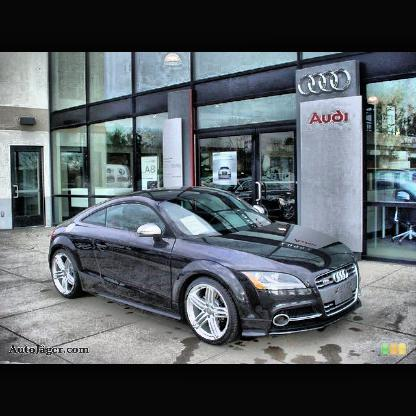Audi TTS Coupe 2012: (50, 185, 362, 350)
